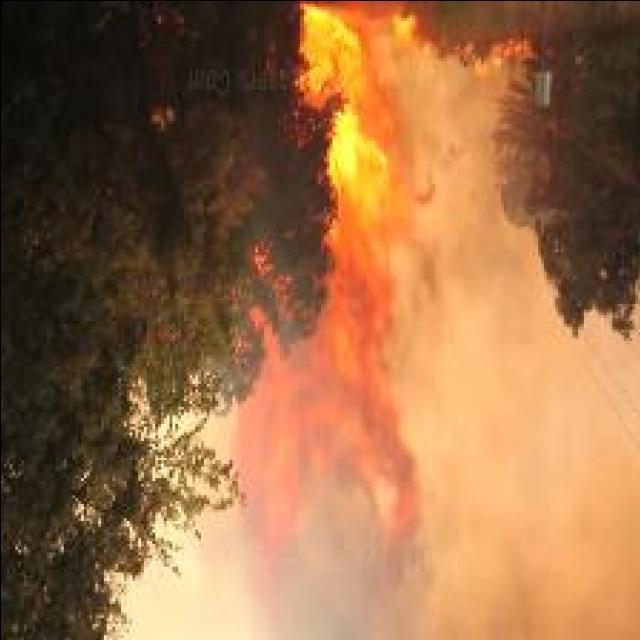Fire: (293, 0, 416, 580)
